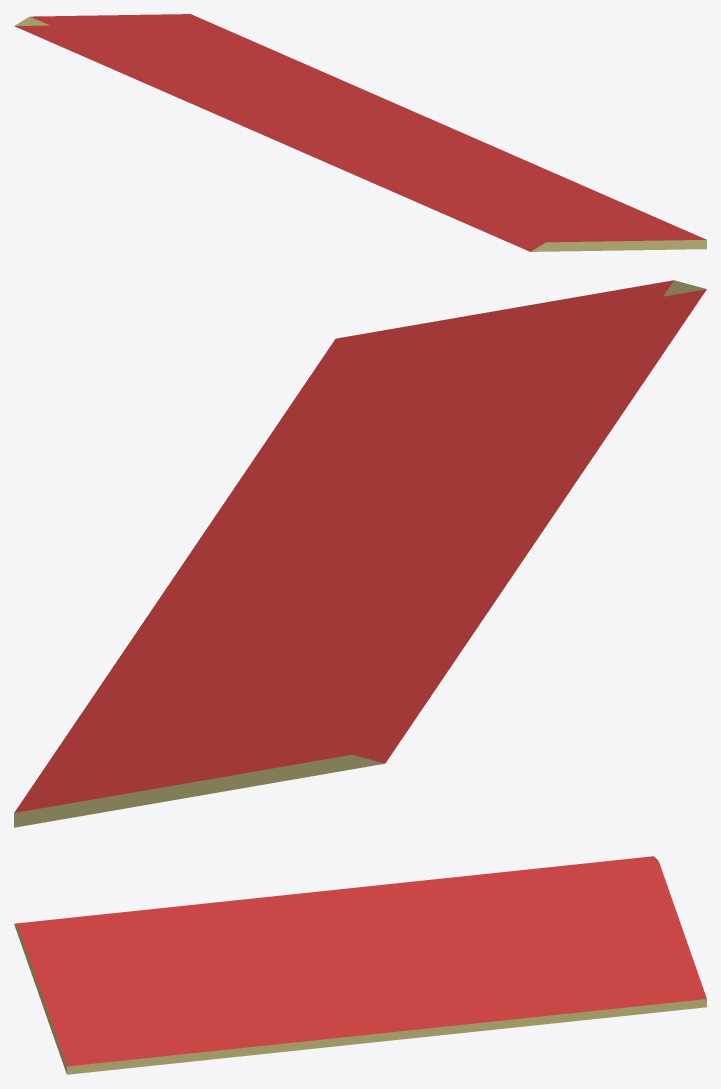
3 renders of one model, top to bottom at view 1: azimuth 30°, elevation 25°; view 2: azimuth 150°, elevation 25°; view 3: azimuth 270°, elevation 25°, orthographic. The views are drawn at different scales.
Bounding box in the file's own units: 4.06 × 7.57 × 0.777.
